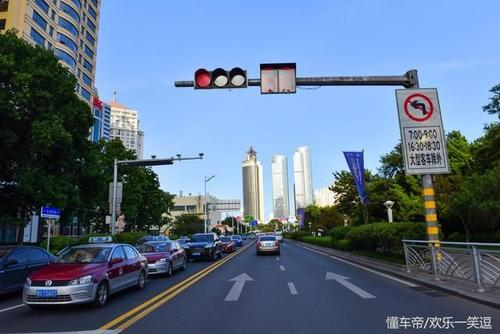red: (192, 68, 251, 90)
